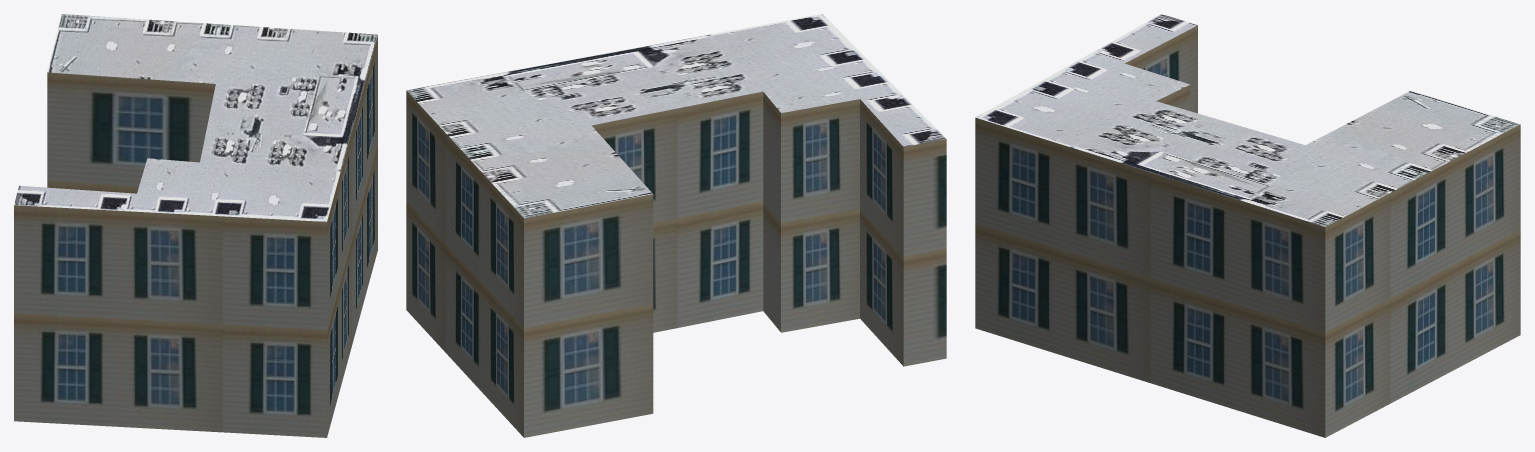
The model's file is ResTex__4821.fbx.
3 views of the same model, side by side, from view 1: azimuth 30°, elevation 25°; view 2: azimuth 150°, elevation 25°; view 3: azimuth 270°, elevation 25° (orthographic). The views are drawn at different scales.
Parts seen in each view (by area): view 1: CityEngineMaterial_7_m, CityEngineMaterial_m; view 2: CityEngineMaterial_7_m, CityEngineMaterial_m; view 3: CityEngineMaterial_7_m, CityEngineMaterial_m.
Boxes of the visible parts, box(x1,y1,x2,y2) form: CityEngineMaterial_7_m: box(14, 35, 377, 437); CityEngineMaterial_m: box(14, 14, 377, 221); CityEngineMaterial_7_m: box(406, 91, 946, 437); CityEngineMaterial_m: box(406, 14, 946, 218); CityEngineMaterial_7_m: box(975, 25, 1520, 437); CityEngineMaterial_m: box(976, 14, 1519, 226).
Bounding box in the file's own units: 13.01 × 6 × 14.06.
Materials: 2 (2 with a texture image).
